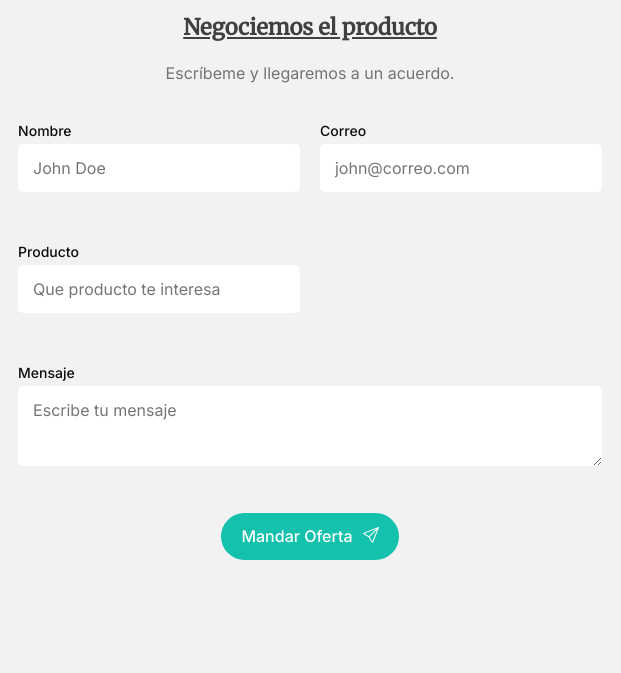
Scenario: Contacto - Pruebas Funcionales › Flujo completo: usuario corrige errores y completa el formulario
PASO 1: Provocar el error
Type "A" into the field labelled "Nombre" at (159, 168), box [18, 144, 300, 192]
Click the button "Mandar Oferta" at (310, 536), box [221, 513, 398, 560]
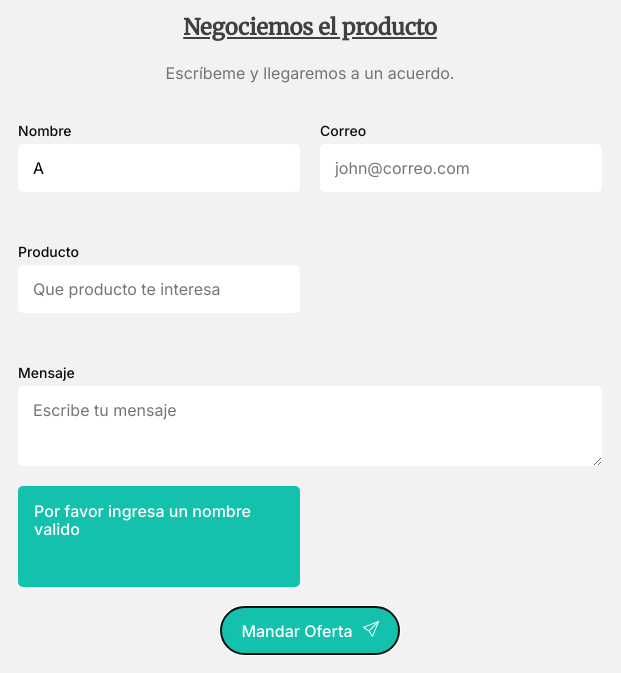
Expected: the text "Por favor ingresa un nombre valido" is shown, [34, 502, 284, 539]
Replace the text in the field labelled "Nombre" with "Jose Damian" at (159, 168), box [18, 144, 300, 192]
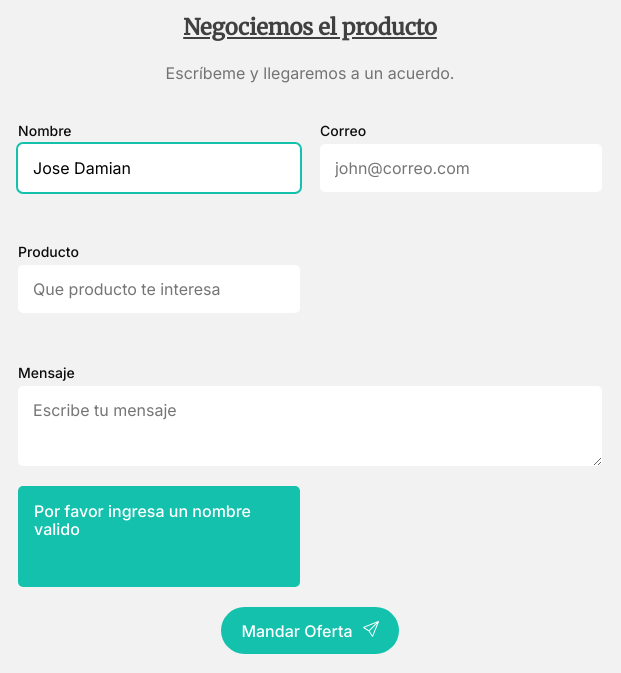
Type "damian@gmail.com" into the field labelled "Correo" at (461, 168), box [320, 144, 602, 192]
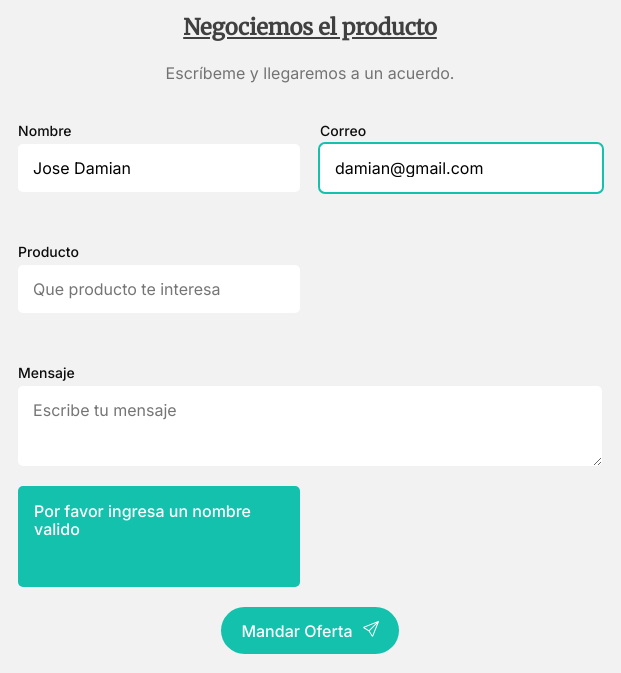
Type "monitor" into the field labelled "Producto" at (159, 289), box [18, 265, 300, 313]
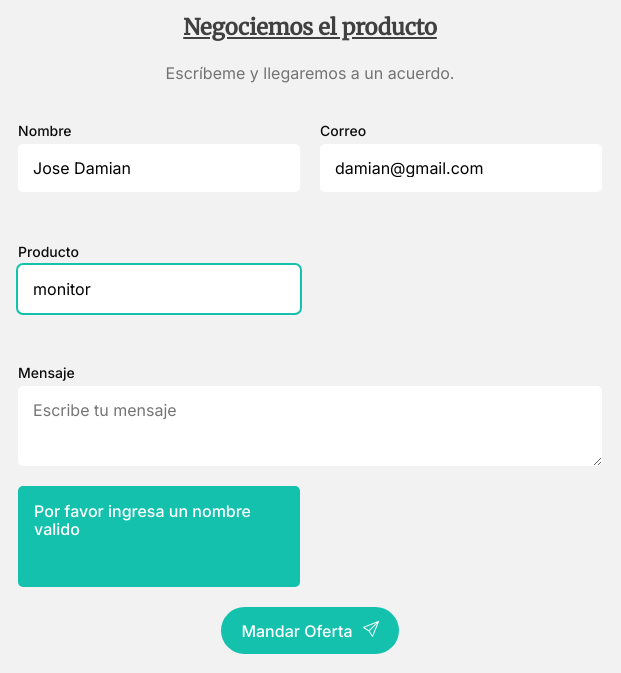
Type "Este es un mensaje de prueba válido" into the text box labelled "Mensaje" at (310, 426), box [18, 386, 602, 466]
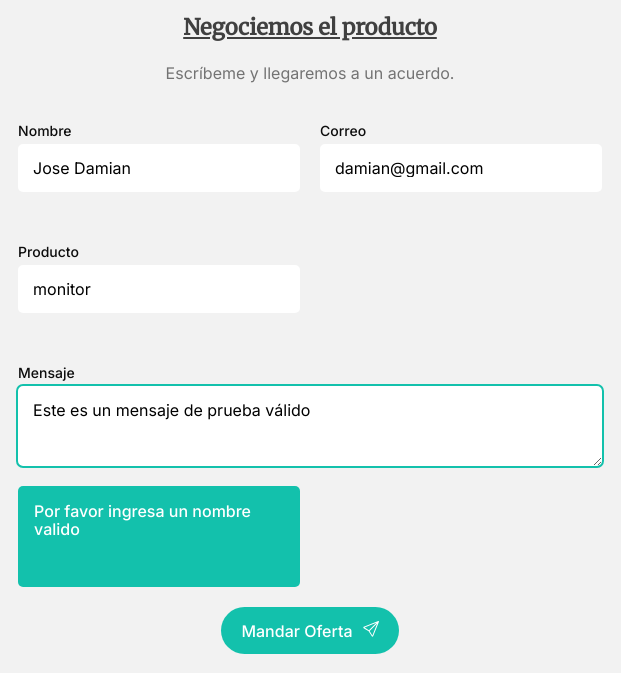
PASO 3: Enviar de nuevo
Click the button "Mandar Oferta" at (310, 631), box [221, 607, 398, 654]
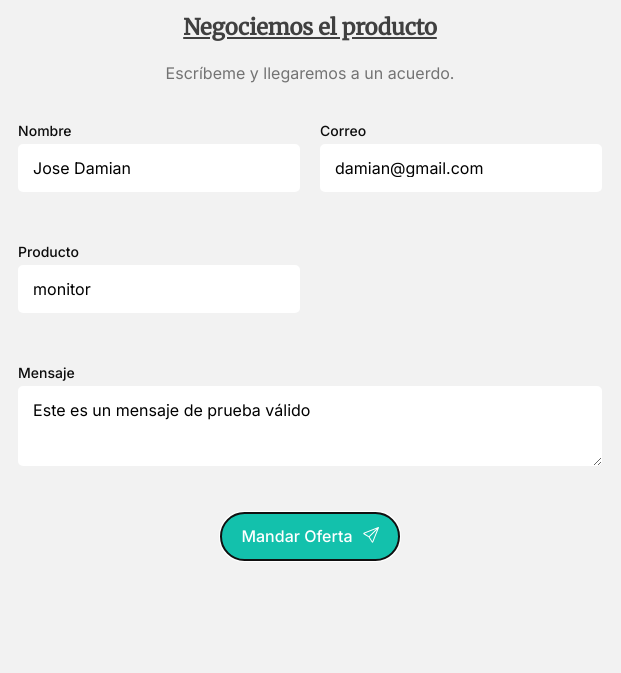
Expected: the text "Por favor ingresa un nombre valido" is gone
